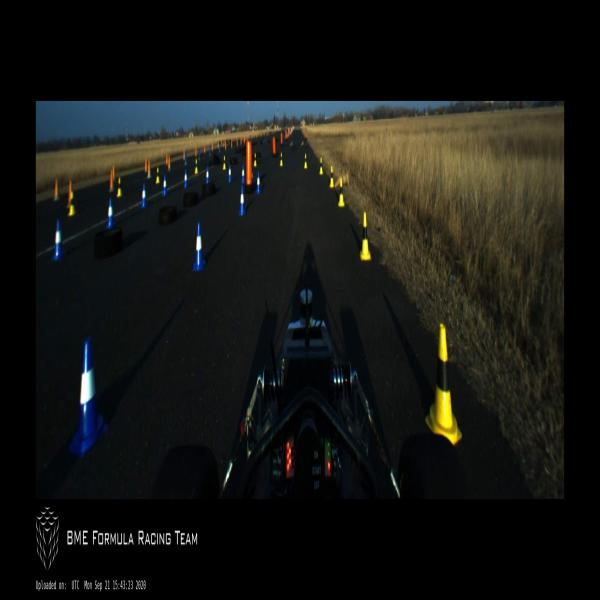blue_cone: (68, 339, 109, 460), (192, 221, 206, 272), (51, 218, 65, 261), (106, 199, 115, 231), (238, 186, 246, 217), (140, 183, 148, 209), (255, 170, 261, 194), (162, 175, 168, 196), (183, 168, 188, 189), (241, 164, 246, 184), (205, 166, 210, 184), (228, 163, 232, 182)
unknown_cone: (66, 179, 72, 208), (53, 178, 60, 202), (108, 169, 114, 192), (147, 160, 151, 178), (144, 159, 148, 172), (112, 165, 115, 182), (184, 152, 187, 165), (166, 152, 168, 167), (168, 155, 170, 170), (183, 150, 185, 160)
yellow_cone: (425, 323, 462, 446), (359, 212, 371, 261), (68, 192, 76, 217), (338, 179, 344, 208), (116, 178, 122, 198), (329, 166, 334, 189), (319, 156, 323, 176), (156, 167, 160, 184), (304, 153, 308, 169), (280, 152, 284, 167), (222, 156, 226, 170), (195, 159, 198, 174), (254, 153, 257, 166)
